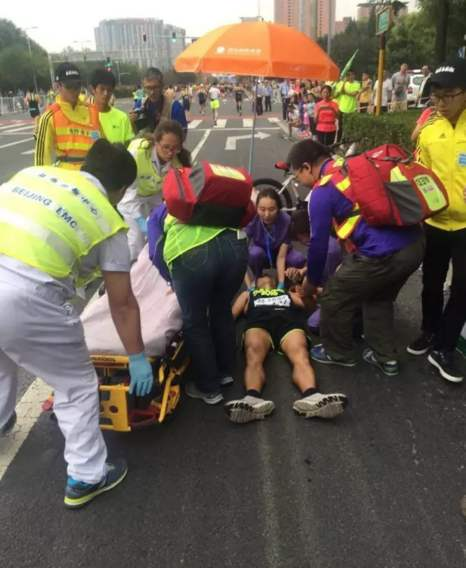10+: (5, 50, 466, 432)
down: (221, 274, 347, 444)
